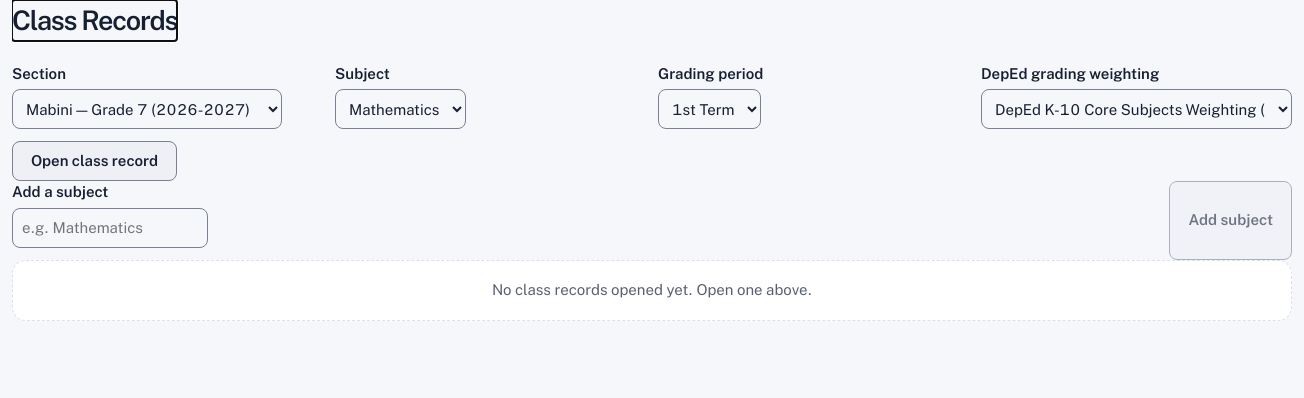
Scenario: ClassRecordsScreen › adds a new subject and selects it
This screenshot has width=1304, height=398.
Expected: the dropdown labelled "Section" is shown, [12,89,282,129]
Type "Science" into the field labelled "Add a subject" at (110, 228), box [12,208,208,248]
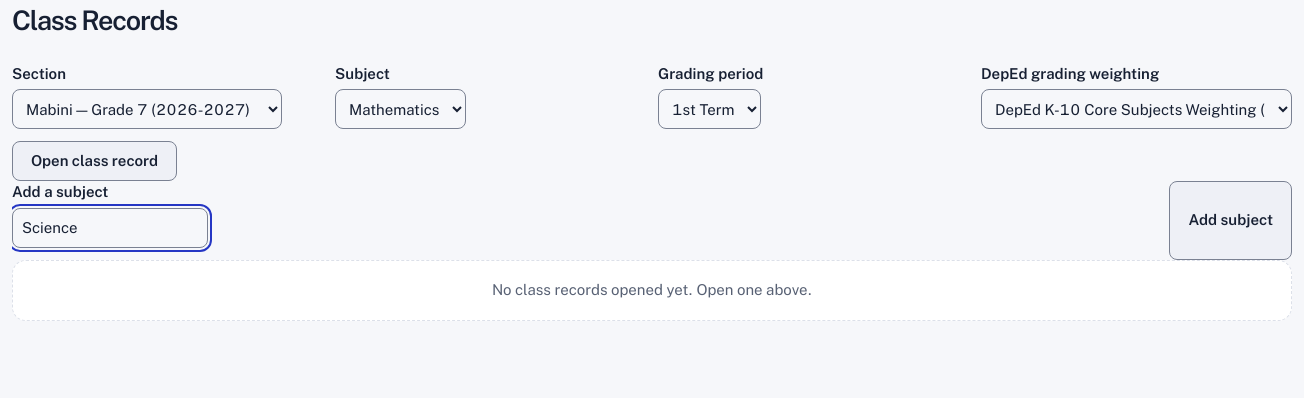
Click the button "Add subject" at (1231, 221), box [1170,181,1292,260]
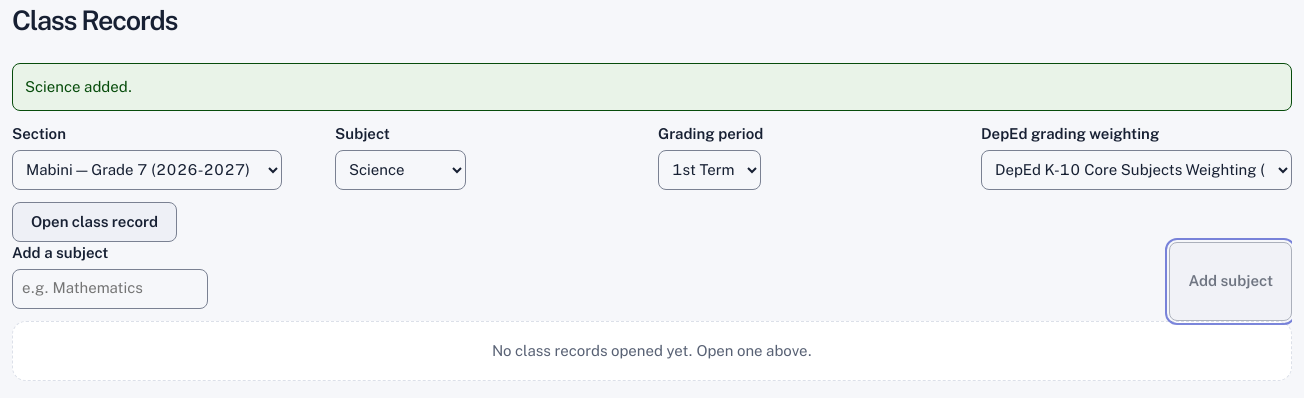
Now the text "Science added." is shown, box [12,63,1292,111]
Now the dropdown labelled "Subject" shows "Science", box [335,150,466,190]
